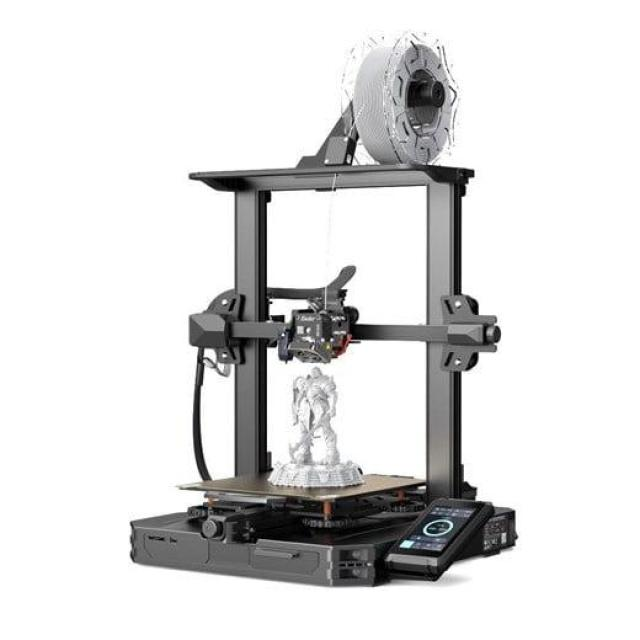Without deffect: (280, 362, 365, 494)
